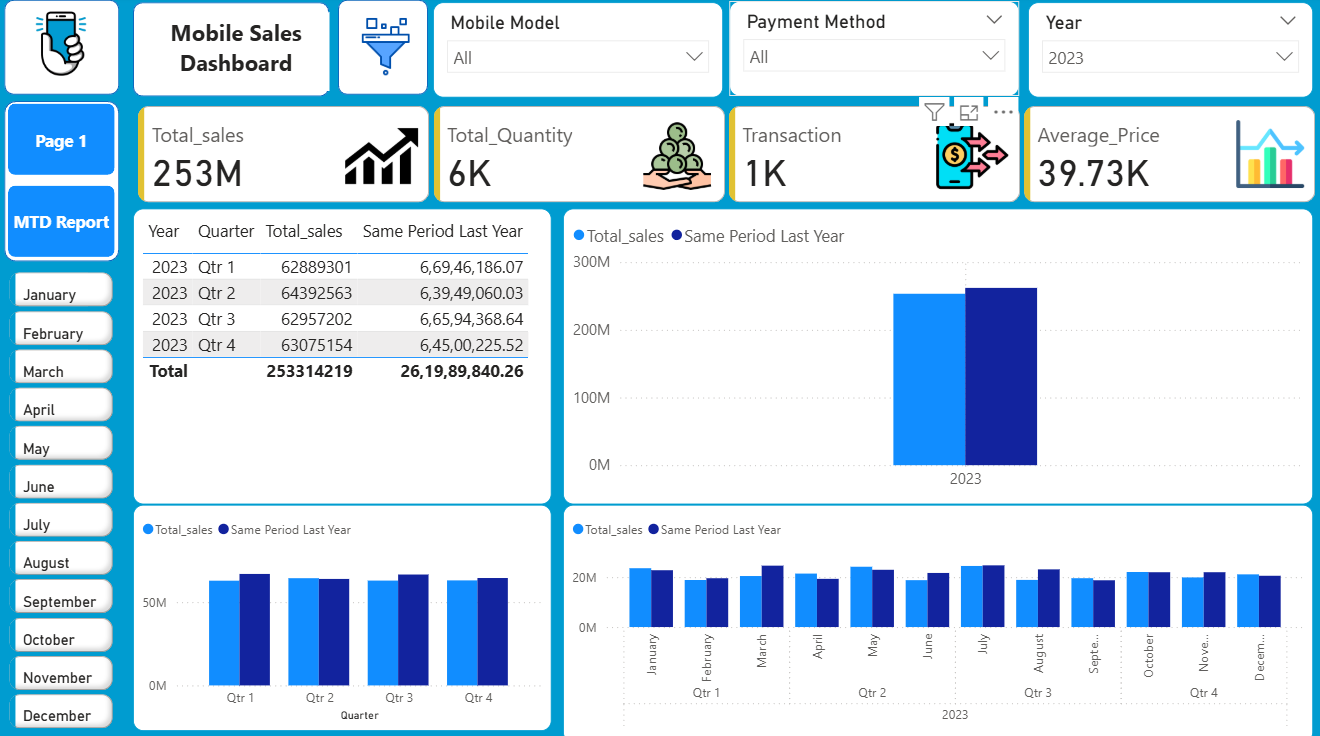

Layout of this report page (visuals, bound fields, positions):
{"tool":"powerbi","page":{"name":"Same Period Last Year","canvas":[1280,720],"ordinal":2},"visuals":[{"type":"shape","box":[6,4,111,91.7],"z":0},{"type":"image","box":[4.8,0,112.2,91.7],"z":1000},{"type":"shape","box":[6,101,111,155],"z":2000},{"type":"cardVisual","fields":{"Data":["Sales_Data.Total_sales","Sales_Data.Total_Quantity","Sales_Data.Transaction","Sales_Data.Average_Price"]},"box":[130.3,101.3,1149.7,103.8],"z":3000},{"type":"slicer","fields":{"Values":["Sales_Data.Mobile Model"]},"box":[419.8,6,279.9,91.7],"z":4000},{"type":"slicer","fields":{"Values":["Sales_Data.Payment Method"]},"box":[705.8,4.8,279.9,91.7],"z":5000},{"type":"shape","box":[328.2,3.6,86.9,91.7],"z":6000},{"type":"slicer","fields":{"Values":["Custom_Calendar.Date.Variation.Date Hierarchy.Year"]},"box":[994.1,6,275.1,91.7],"z":7000},{"type":"image","box":[328.2,15.7,91.7,66.4],"z":8000},{"type":"shape","box":[130.3,6,189.4,91],"z":9000},{"type":"textbox","box":[139.9,15.7,179.8,76],"z":10000},{"type":"advancedSlicerVisual","fields":{"Values":["Custom_Calendar.Date.Variation.Date Hierarchy.Month"]},"box":[6,261.6,111,458.4],"z":11000},{"type":"tableEx","fields":{"Values":["Custom_Calendar.Date.Variation.Date Hierarchy.Year","Custom_Calendar.Date.Variation.Date Hierarchy.Quarter","Sales_Data.Total_sales","Sales_Data.Same Period Last Year"]},"box":[130.3,205.1,404.2,285.9],"z":12000},{"type":"clusteredColumnChart","fields":{"Category":["Custom_Calendar.Date.Variation.Date Hierarchy.Year","Custom_Calendar.Date.Variation.Date Hierarchy.Quarter"],"Y":["Sales_Data.Total_sales","Sales_Data.Same Period Last Year"]},"box":[545.3,205.1,723.9,285.9],"z":13000},{"type":"clusteredColumnChart","fields":{"Category":["Custom_Calendar.Date.Variation.Date Hierarchy.Year","Custom_Calendar.Date.Variation.Date Hierarchy.Quarter"],"Y":["Sales_Data.Total_sales","Sales_Data.Same Period Last Year"]},"box":[130.3,491,404.2,218.4],"z":14000},{"type":"clusteredColumnChart","fields":{"Y":["Sales_Data.Total_sales","Sales_Data.Same Period Last Year"],"Category":["Custom_Calendar.Date.Variation.Date Hierarchy.Year","Custom_Calendar.Date.Variation.Date Hierarchy.Quarter","Custom_Calendar.Date.Variation.Date Hierarchy.Month","Custom_Calendar.Date.Variation.Date Hierarchy.Day"]},"box":[545.3,491,723.9,229.2],"z":15000},{"type":"pageNavigator","box":[9.7,103.8,103.8,148.4],"z":16000}]}

Visuals, with their boxes in screenshot pixels (x1, y1, x2, y2), scaled from the page's 1280x720 canvas onto the 1320x736 screenshot:
shape: BBox(6, 4, 121, 98)
image: BBox(5, 0, 121, 94)
shape: BBox(6, 103, 121, 262)
cardVisual - Sales_Data.Total_sales x Sales_Data.Total_Quantity: BBox(134, 104, 1319, 210)
slicer - Sales_Data.Mobile Model: BBox(433, 6, 722, 100)
slicer - Sales_Data.Payment Method: BBox(728, 5, 1017, 99)
shape: BBox(338, 4, 428, 97)
slicer - Custom_Calendar.Date.Variation.Date Hierarchy.Year: BBox(1025, 6, 1309, 100)
image: BBox(338, 16, 433, 84)
shape: BBox(134, 6, 330, 99)
textbox: BBox(144, 16, 330, 94)
advancedSlicerVisual - Custom_Calendar.Date.Variation.Date Hierarchy.Month: BBox(6, 267, 121, 735)
tableEx - Custom_Calendar.Date.Variation.Date Hierarchy.Year x Custom_Calendar.Date.Variation.Date Hierarchy.Quarter: BBox(134, 210, 551, 502)
clusteredColumnChart - Custom_Calendar.Date.Variation.Date Hierarchy.Year x Custom_Calendar.Date.Variation.Date Hierarchy.Quarter: BBox(562, 210, 1309, 502)
clusteredColumnChart - Custom_Calendar.Date.Variation.Date Hierarchy.Year x Custom_Calendar.Date.Variation.Date Hierarchy.Quarter: BBox(134, 502, 551, 725)
clusteredColumnChart - Sales_Data.Total_sales x Sales_Data.Same Period Last Year: BBox(562, 502, 1309, 735)
pageNavigator: BBox(10, 106, 117, 258)
